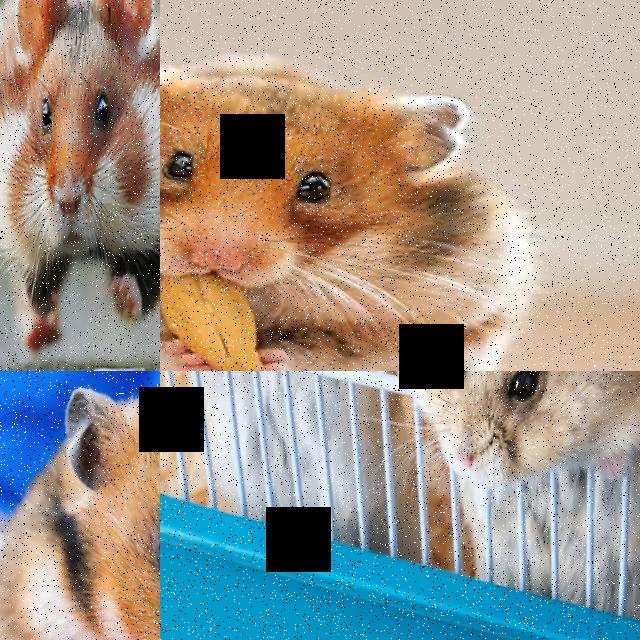hamster: (160, 44, 539, 371), (402, 371, 640, 616), (0, 0, 160, 364), (0, 379, 160, 640), (183, 371, 401, 550)
